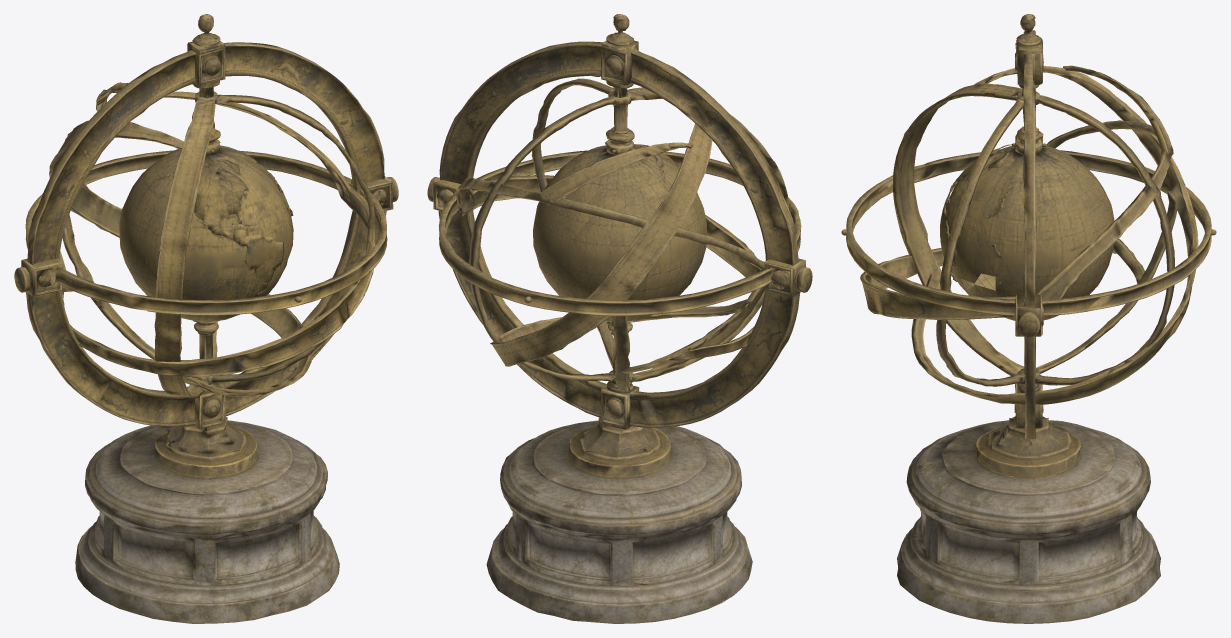
Rendered from skyways-d-lm-orrery.glb.
The picture shows the model from 3 angles, left to right: view 1: azimuth 30°, elevation 25°; view 2: azimuth 150°, elevation 25°; view 3: azimuth 270°, elevation 25°; orthographic projection.
Visible parts, largest first — view 1: skyways-d-lm-orrery; view 2: skyways-d-lm-orrery; view 3: skyways-d-lm-orrery.
Part boxes in pixels (left/top/right/bottom): skyways-d-lm-orrery: left=14, top=14, right=398, bottom=623; skyways-d-lm-orrery: left=427, top=14, right=812, bottom=623; skyways-d-lm-orrery: left=841, top=14, right=1216, bottom=623.
Bounding box in the file's own units: 2.12 × 3 × 1.84.
1 material, 1 textured.
